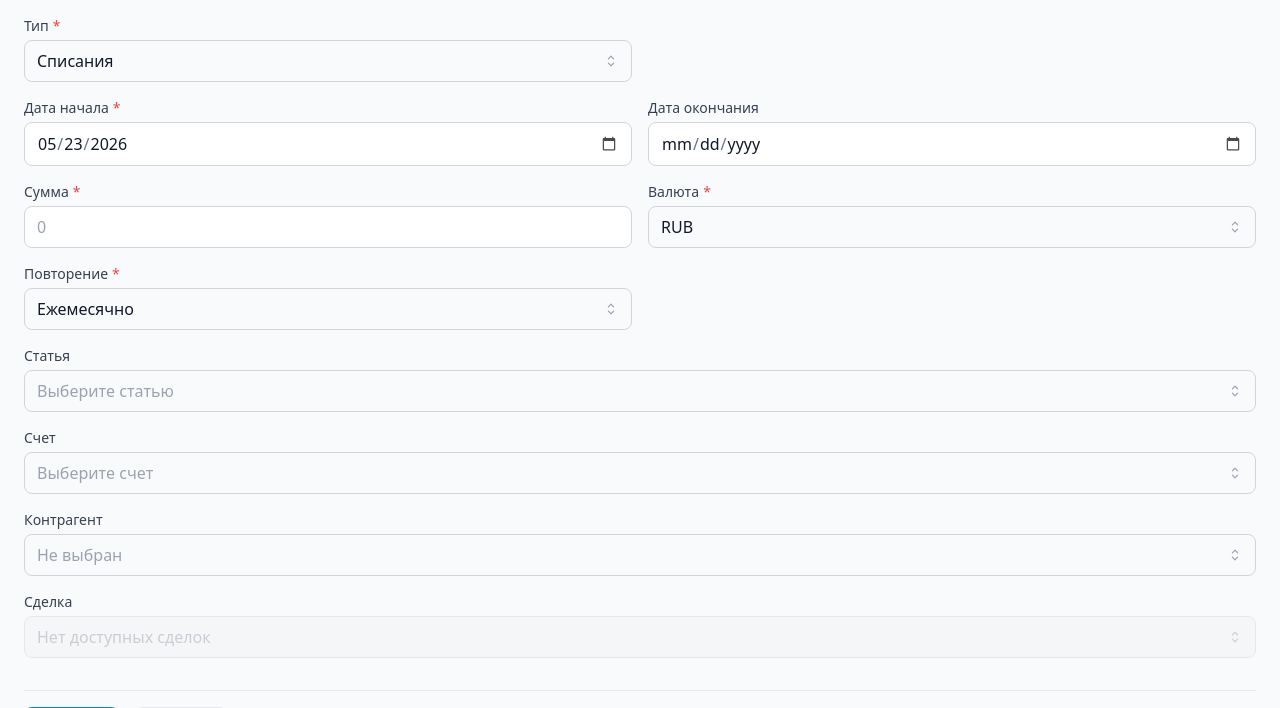
it: PlanForm › Form fields › updates form fields when user types
The image size is (1280, 708).
Type "2500.50" into the field labelled "Сумма*".
click(328, 227); type("2500.50")  # box [24,206,632,248]
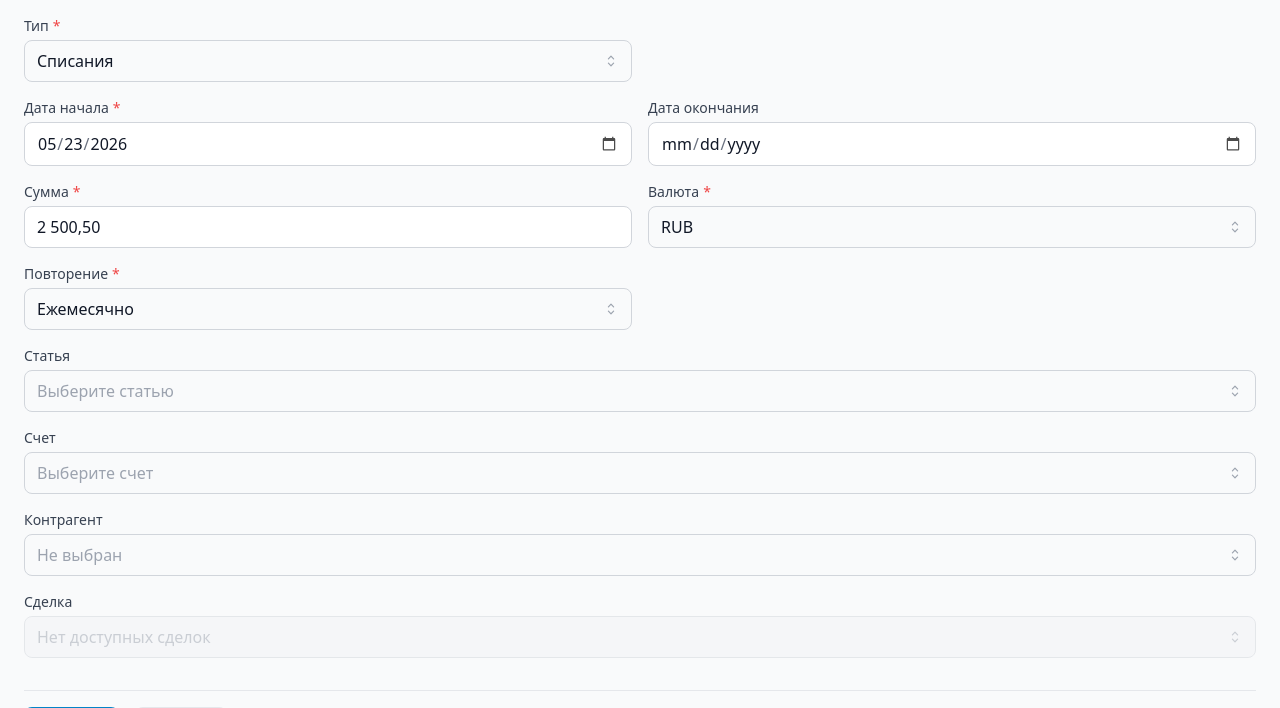
Expected: the field labelled "Сумма*" holds "2 500,50", [24,206,632,248]
